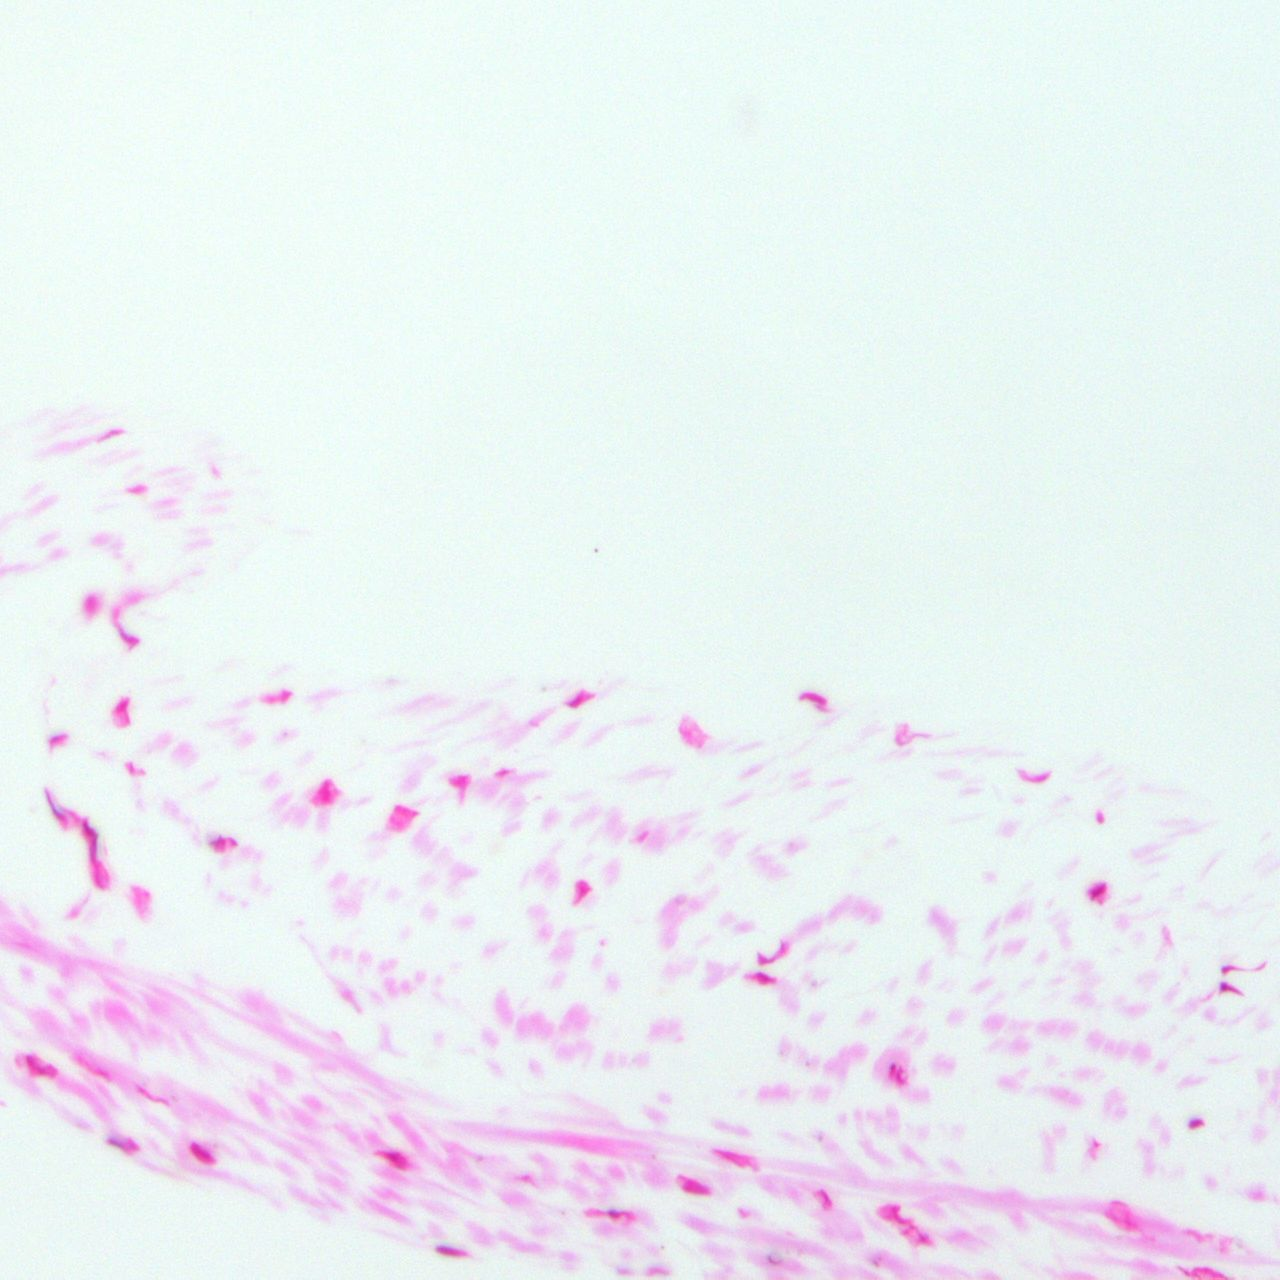dust: (765, 1255, 782, 1265), (804, 1061, 811, 1068), (872, 1259, 879, 1266), (818, 1135, 823, 1142), (651, 1153, 655, 1159), (561, 1210, 565, 1216), (660, 1245, 663, 1250), (594, 549, 598, 552)
nucleus-FG: (108, 610, 141, 649), (753, 940, 794, 969), (42, 785, 68, 829), (82, 816, 103, 864), (134, 1084, 168, 1107), (712, 1146, 741, 1167), (22, 1053, 48, 1074), (1087, 879, 1109, 901), (189, 1142, 212, 1163), (801, 689, 829, 707), (567, 690, 591, 710), (888, 1063, 908, 1087), (1184, 1266, 1219, 1279), (1218, 982, 1244, 998), (46, 731, 69, 748), (1016, 772, 1051, 783), (753, 973, 781, 986), (587, 1208, 628, 1217), (320, 779, 333, 805), (888, 1206, 904, 1227), (574, 881, 590, 903), (437, 1246, 467, 1257), (105, 1137, 124, 1150), (1219, 965, 1242, 974), (115, 699, 129, 714), (380, 1150, 400, 1160), (213, 836, 225, 852), (449, 774, 467, 784), (1186, 1118, 1203, 1129), (819, 1189, 829, 1205), (682, 1177, 692, 1191), (496, 769, 511, 776), (919, 1235, 930, 1244)
